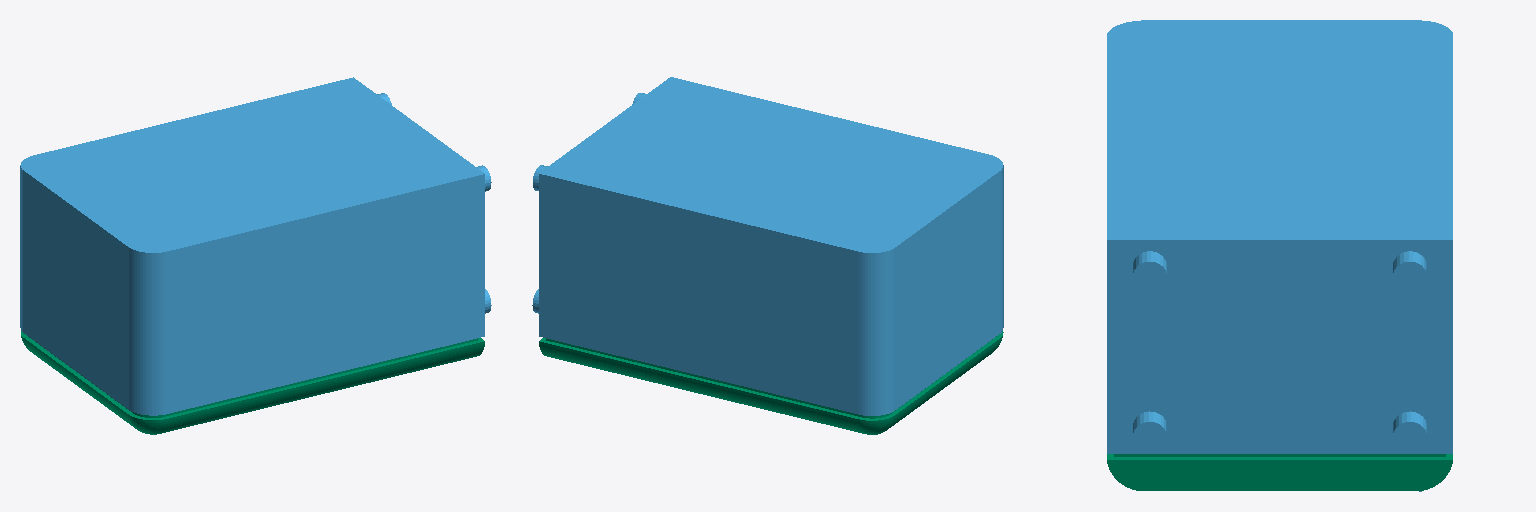
The robot description file, URDF, robot "fridge":
<?xml version="1.0" ?>
<robot name="fridge">
    <mujoco>
        <compiler meshdir="texture_stl" balanceinertia="true" discardvisual="false"/>
    </mujoco>
	<link name="base"/>
	<link name="link_0">
		<visual name="out-frame">
			<origin xyz="0 0 0"/>
			<geometry>
				<mesh filename="texture_stl/frame.stl" scale="0.7 0.7 0.7"/>
			</geometry>
		</visual>
		<collision>
			<origin xyz="0 0 0"/>
			<geometry>
				<mesh filename="texture_stl/frame.stl" scale="0.7 0.7 0.7"/>
			</geometry>
		</collision>
	</link>
	<joint name="joint_0" type="fixed">
		<origin rpy="1.570796326794897 0 -1.570796326794897" xyz="0 0 0"/>
		<child link="link_0"/>
		<parent link="base"/>
	</joint>
	<link name="link_1">
		<visual name="surf-board">
			<origin xyz="0.5950132334630519 -0.37105121993370244 0"/>
			<geometry>
				<mesh filename="texture_stl/board.stl" scale="0.7 0.7 0.7"/>
			</geometry>
		</visual>
		<collision>
			<origin xyz="0.5950132334630519 -0.37105121993370244 0"/>
			<geometry>
				<mesh filename="texture_stl/board.stl" scale="0.7 0.7 0.7"/>
			</geometry>
		</collision>
	</link>
	<joint name="joint_1" type="revolute">
		<origin xyz="-0.5950132334630519 0.37105121993370244 0"/>
		<axis xyz="0 -1 0"/>
		<child link="link_1"/>
		<parent link="link_0"/>
		<limit lower="0" upper="1.5079644737231006"/>
	</joint>
	<link name="link_2">
		<visual name="handle">
			<origin xyz="0 0 0"/>
			<geometry>
				<mesh filename="texture_stl/9960013.stl" scale="1 1 1"/>
			</geometry>
		</visual>
		<collision>
			<origin xyz="0 0 0"/>
			<geometry>
				<mesh filename="texture_stl/9960013.stl" scale="1 1 1"/>
			</geometry>
		</collision>
	</link>
	<joint name="joint_2" type="revolute">
		<origin xyz="0.5950132334630519 -0.37105121993370244 0.041878916448044735"/>
		<child link="link_2"/>
		<parent link="link_1"/>
		<axis xyz="0 0 1"/>
		<limit lower="0" upper="1.5079644737231006"/>
	</joint>
</robot>

--- Render facts (derived) ---
3 views of the same robot in one strip: view 1: azimuth 30°, elevation 25°; view 2: azimuth 150°, elevation 25°; view 3: azimuth 270°, elevation 25° (orthographic).
Robot: fridge — 4 links, 3 joints (2 revolute, 1 fixed); root link base; default pose: all joints at 0.
Visible links, largest first — view 1: link_0, link_1; view 2: link_0, link_1; view 3: link_0, link_1.
Boxes of the visible links, left/top/right/bottom form: link_0: left=20, top=77, right=491, bottom=415; link_1: left=21, top=331, right=484, bottom=434; link_0: left=532, top=77, right=1003, bottom=415; link_1: left=539, top=331, right=1003, bottom=434; link_0: left=1107, top=20, right=1452, bottom=491; link_1: left=1107, top=454, right=1452, bottom=490.
Bounding box of the posed robot: 1.1 × 0.7 × 0.5767 m (x, y, z).
Meshes: 3 distinct files referenced, 3 mesh visuals loaded (3 binary STL).